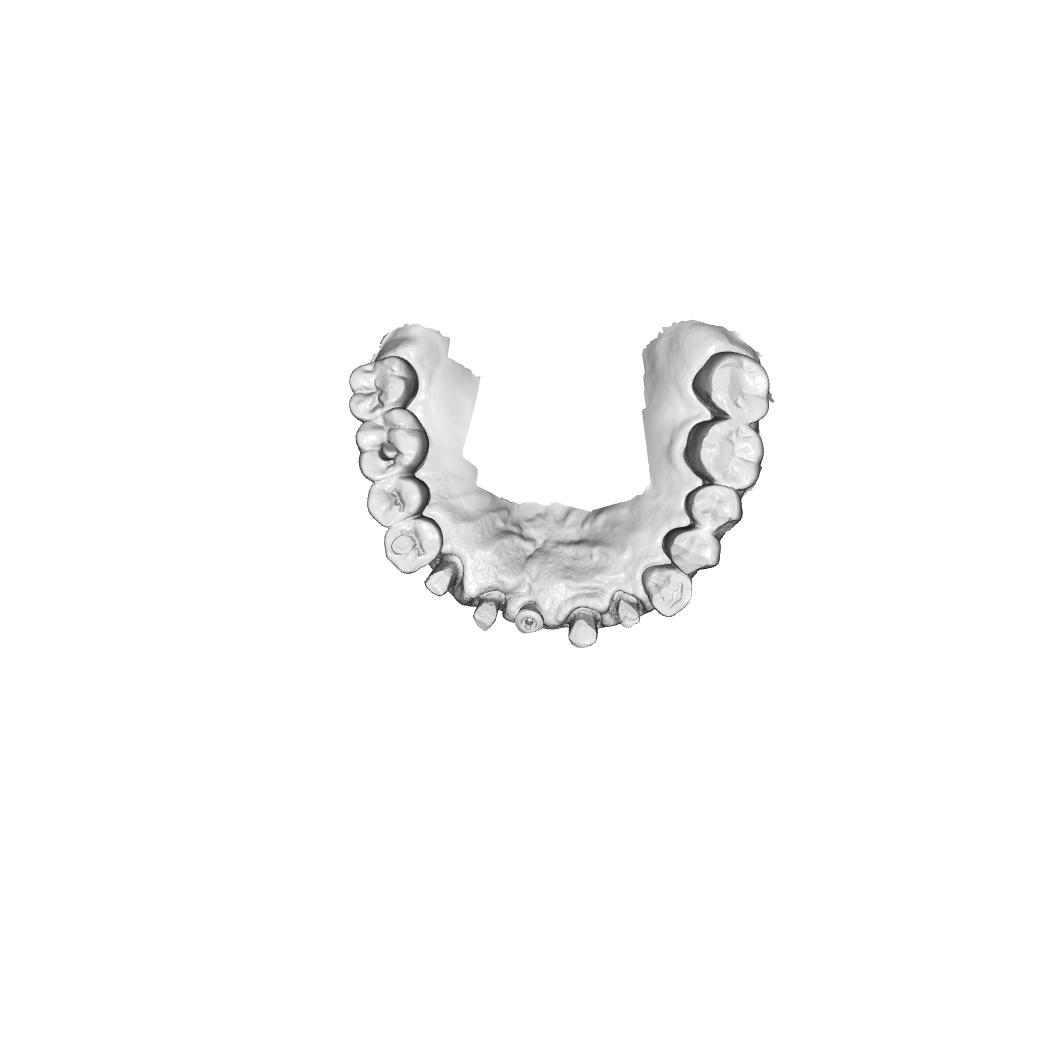canine: (640, 563, 693, 619)
crown: (423, 552, 465, 597), (564, 605, 602, 649), (471, 589, 507, 633), (607, 589, 645, 630)
implant_minus: (514, 601, 545, 635)
molar: (682, 417, 764, 492), (691, 350, 772, 425), (354, 406, 430, 483), (347, 355, 420, 423)
premolar: (383, 514, 445, 575), (366, 475, 431, 528), (660, 523, 722, 578), (684, 482, 744, 534)
